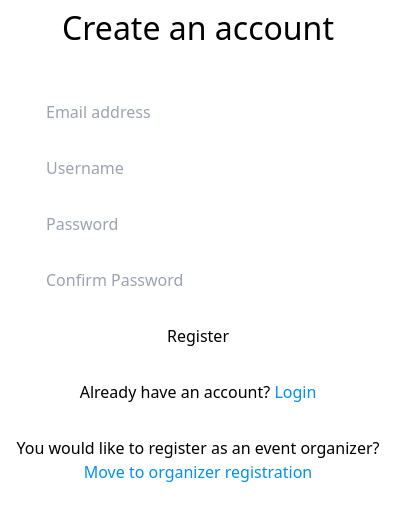
Test: RegisterForm › Validation › Empty Username
// Input values
Type "test@example.com" into the field with placeholder "Email address". click: (198, 112)
box: [38, 92, 358, 132]
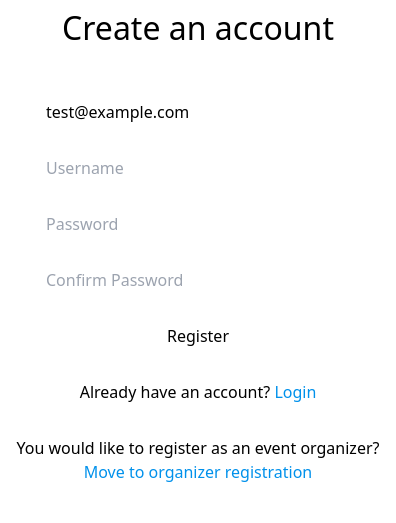
Type "abcde" into the password field with placeholder "Password". click: (198, 224)
box: [38, 204, 358, 244]
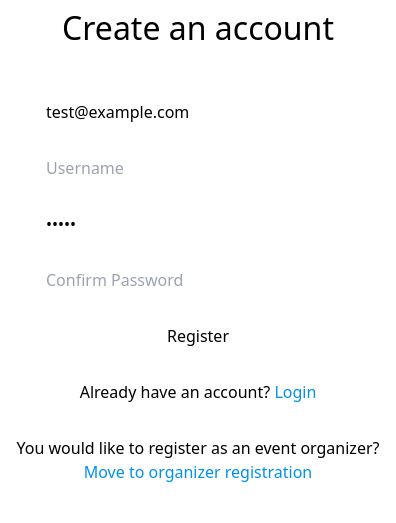
Type "abcde" into the password field with placeholder "Confirm Password". click: (198, 280)
box: [38, 260, 358, 300]
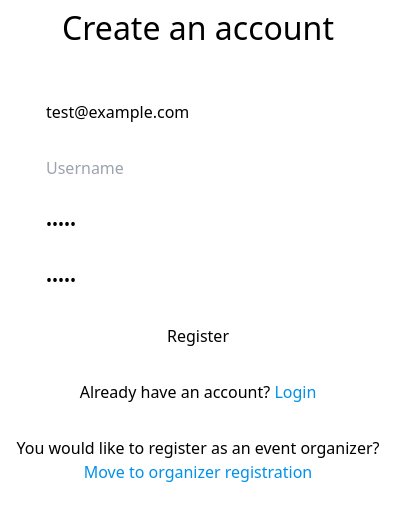
Click the button "Register". click: (198, 336)
box: [38, 316, 358, 356]
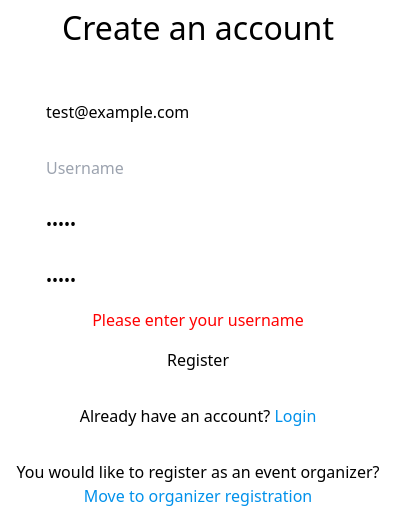
Expected: the text "Please enter your username" is shown, [92, 308, 304, 332]
